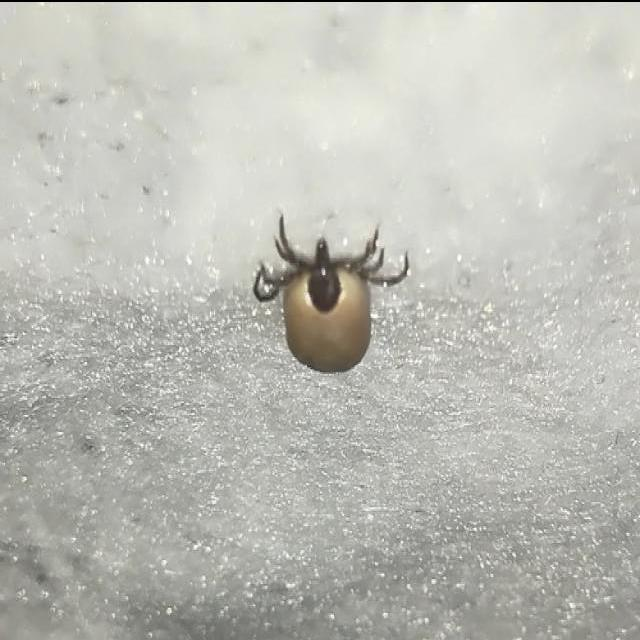Ixodes Ricinus-F-Fed: (253, 210, 407, 370)
